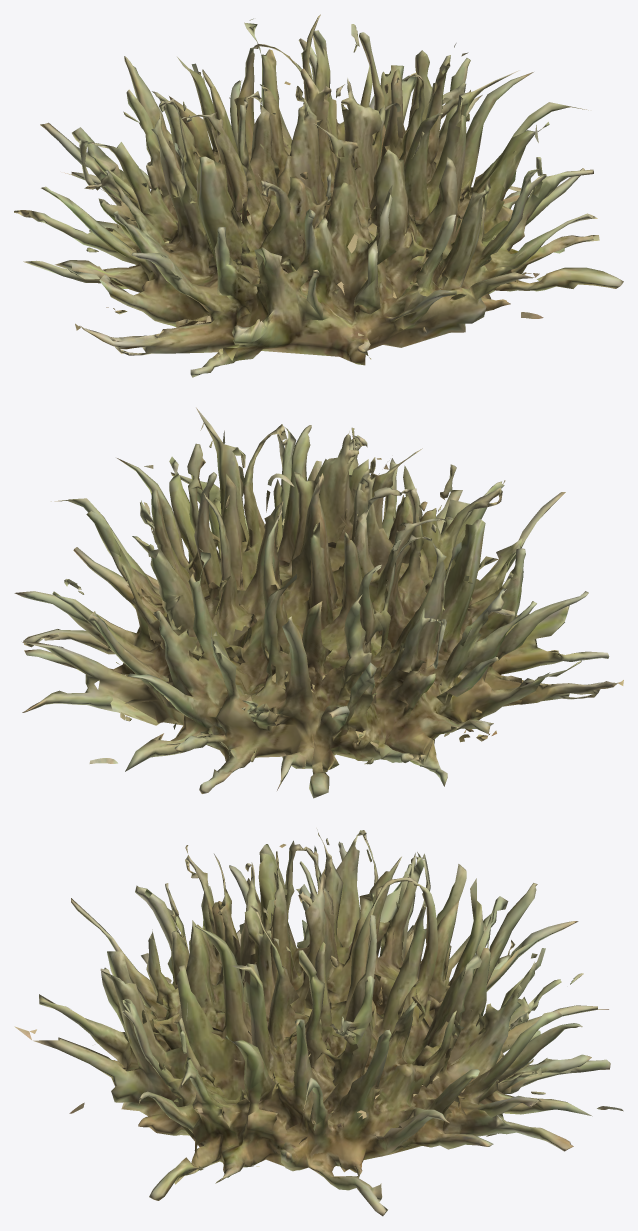
The model's file is Busch v1.glb.
The picture shows the model from 3 angles, top to bottom: view 1: azimuth 30°, elevation 25°; view 2: azimuth 150°, elevation 25°; view 3: azimuth 270°, elevation 25°; orthographic projection.
Parts seen in each view (by area): view 1: Mesh0; view 2: Mesh0; view 3: Mesh0.
Part boxes in pixels (x1,y1,x2,y2): Mesh0: (14,14,623,377); Mesh0: (14,407,623,798); Mesh0: (14,828,623,1216).
Bounding box in the file's own units: 1.95 × 0.8107 × 1.88.
1 material, 1 textured.
